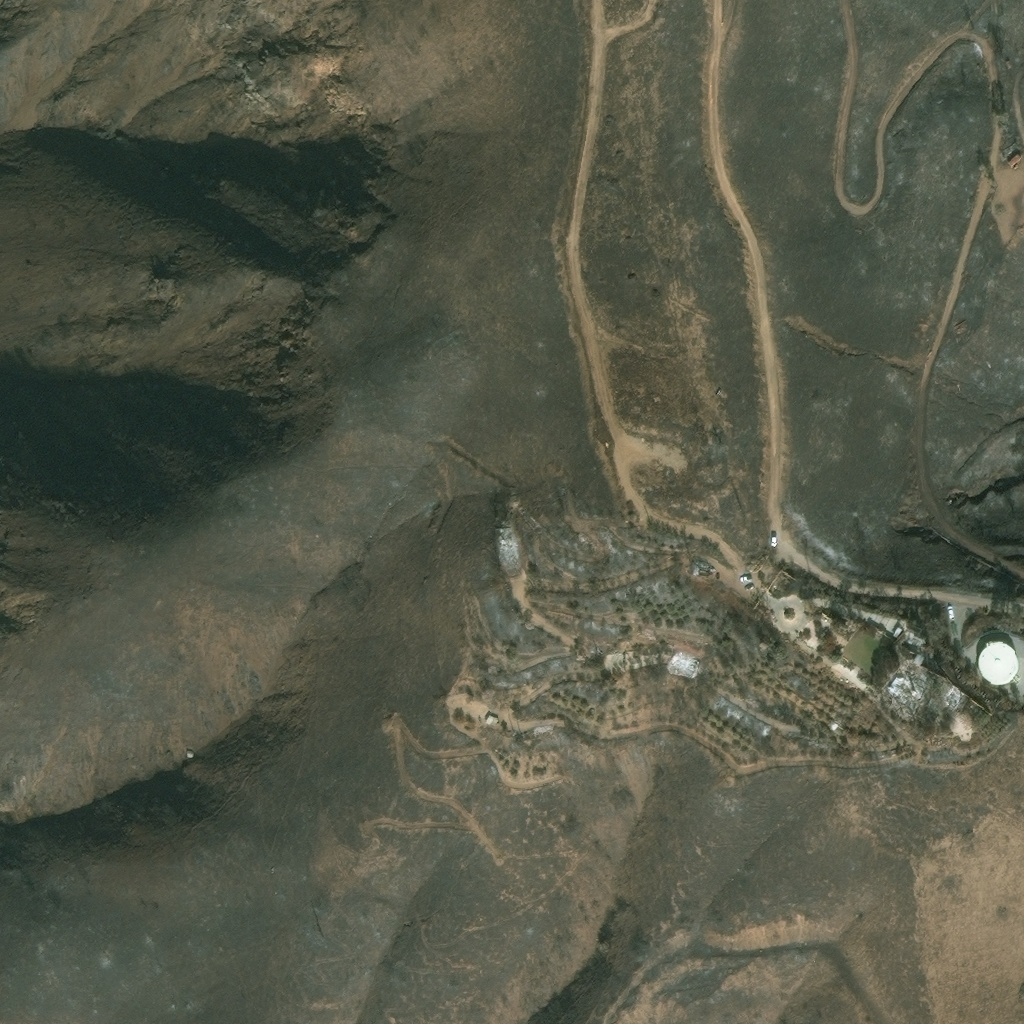0 no-damage: (976, 638, 1016, 684), (1006, 150, 1022, 165), (889, 622, 903, 638)
1 minor-damage: (483, 712, 500, 727)
2 major-damage: (904, 619, 924, 639)
3 destroyed: (878, 658, 936, 712), (495, 532, 519, 570), (667, 650, 698, 676), (940, 681, 962, 706), (999, 140, 1018, 157), (691, 556, 710, 572), (741, 590, 756, 606), (586, 641, 599, 652), (624, 648, 635, 661), (911, 652, 921, 663), (609, 655, 620, 662)
